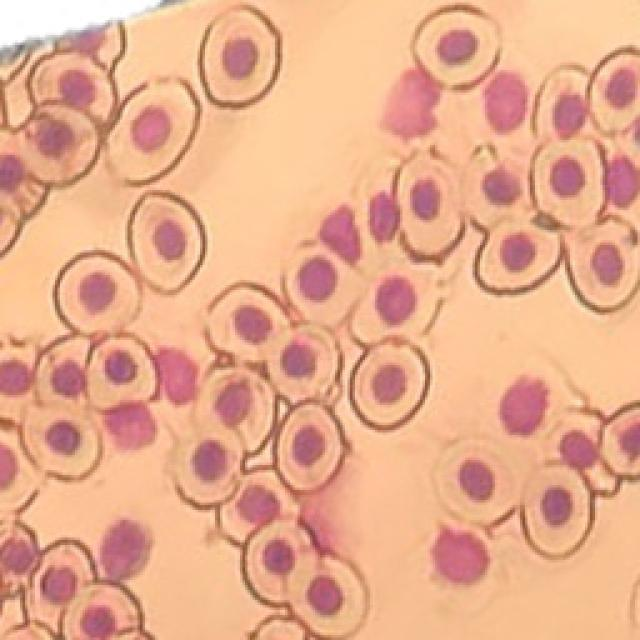RBC: (108, 79, 200, 183), (199, 6, 281, 107), (129, 192, 205, 292), (434, 438, 520, 526), (412, 5, 500, 89), (350, 264, 441, 345), (282, 241, 366, 328), (396, 152, 464, 259), (350, 340, 430, 429), (565, 218, 640, 311), (15, 102, 99, 184), (55, 252, 140, 333), (288, 552, 368, 638), (194, 368, 274, 453), (531, 136, 605, 227), (206, 282, 290, 362), (461, 141, 533, 234), (242, 520, 320, 605), (475, 218, 561, 294), (522, 464, 592, 557), (30, 51, 115, 123), (29, 540, 95, 632), (276, 402, 344, 491), (0, 128, 48, 254), (21, 404, 101, 479), (548, 411, 619, 495), (219, 470, 299, 543), (268, 324, 340, 404), (172, 431, 244, 507), (86, 335, 158, 410), (61, 581, 152, 640), (589, 48, 640, 134), (532, 65, 589, 139), (35, 335, 91, 404), (0, 419, 41, 512), (0, 338, 38, 422), (0, 521, 40, 597), (601, 402, 640, 478)
WBC: (384, 68, 440, 139), (431, 528, 488, 583), (100, 519, 150, 580), (500, 376, 549, 434), (485, 72, 528, 132), (319, 205, 361, 264), (104, 402, 156, 449), (155, 348, 198, 404), (608, 156, 640, 208), (369, 191, 399, 242)
